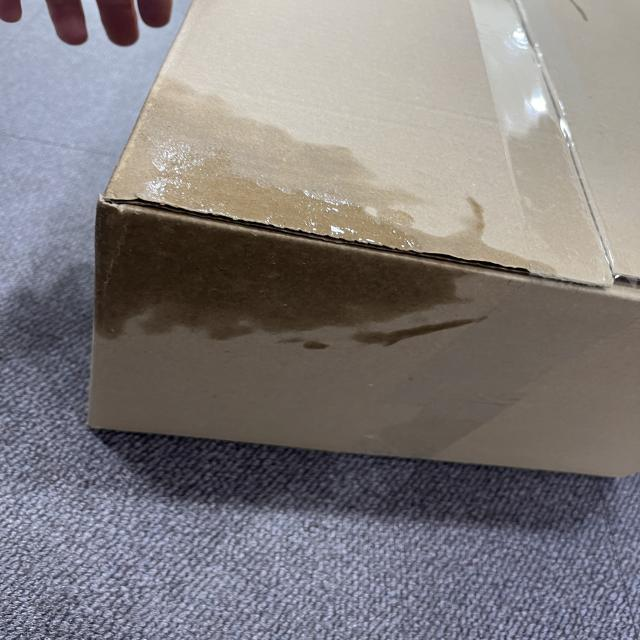wet: (81, 87, 507, 357)
